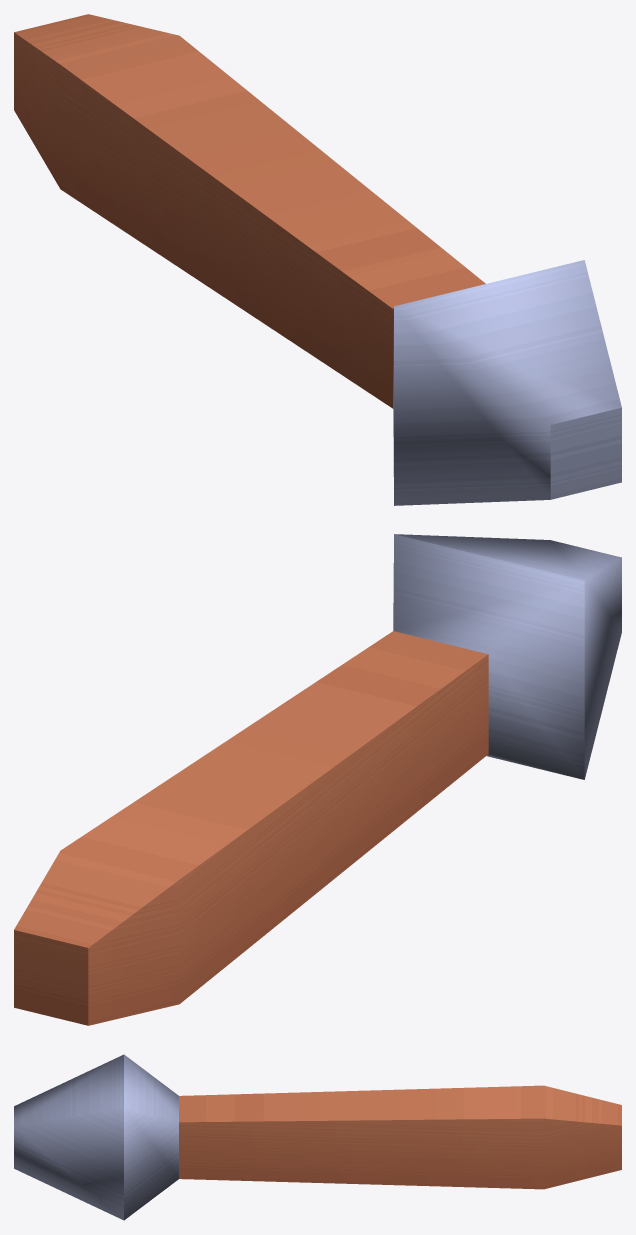
The model's file is weapon-ammo-arrow.glb.
3 renders of one model, top to bottom at view 1: azimuth 30°, elevation 25°; view 2: azimuth 150°, elevation 25°; view 3: azimuth 270°, elevation 25°, orthographic. The views are drawn at different scales.
Visible parts, largest first — view 1: weapon-ammo-arrow; view 2: weapon-ammo-arrow; view 3: weapon-ammo-arrow.
Part boxes in pixels (bbox=[...]): weapon-ammo-arrow: bbox=[14, 14, 621, 505]; weapon-ammo-arrow: bbox=[14, 534, 621, 1025]; weapon-ammo-arrow: bbox=[14, 1054, 621, 1220].
Bounding box in the file's own units: 0.1599 × 0.1599 × 0.7776.
1 material, 1 textured.
